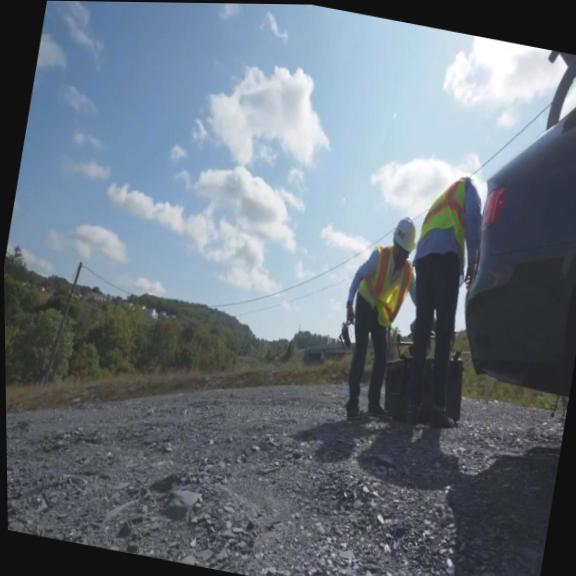safety_vest: (413, 168, 481, 272), (350, 239, 417, 335)
